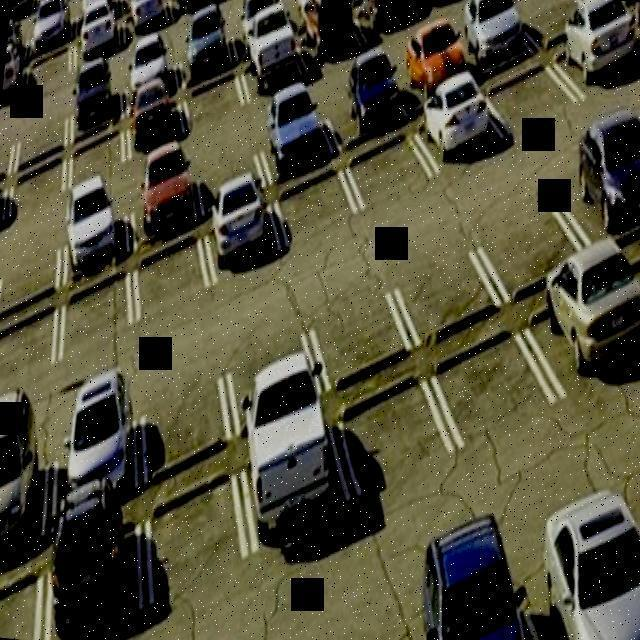space-empty: (339, 354, 459, 502), (437, 309, 545, 465), (137, 493, 242, 607), (395, 237, 507, 339), (309, 277, 413, 383), (479, 204, 578, 302), (219, 325, 319, 415), (135, 231, 213, 345), (143, 360, 229, 462), (269, 170, 357, 267), (59, 261, 129, 377), (0, 309, 60, 413), (184, 57, 244, 147), (349, 144, 421, 216), (497, 67, 566, 139), (0, 245, 68, 311), (66, 135, 130, 195), (192, 152, 260, 206), (5, 158, 63, 216), (0, 571, 41, 640), (29, 40, 73, 103)
space-occupied: (237, 395, 361, 539), (509, 519, 640, 640), (538, 251, 633, 397), (46, 518, 155, 640), (404, 552, 552, 640), (39, 390, 143, 498), (578, 124, 640, 246), (201, 187, 293, 269), (558, 0, 640, 85), (1, 434, 53, 560), (415, 85, 499, 163), (244, 7, 308, 106), (259, 108, 337, 182), (452, 0, 532, 70), (124, 82, 180, 176), (335, 74, 409, 144), (396, 31, 478, 91), (59, 203, 131, 267), (128, 178, 202, 240), (170, 24, 238, 84), (302, 0, 362, 66), (127, 41, 187, 105), (72, 64, 122, 138), (356, 0, 419, 42), (29, 0, 74, 57), (79, 2, 124, 50), (124, 0, 172, 44), (172, 0, 223, 22)
